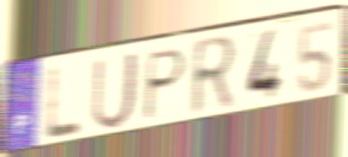4: (243, 25, 284, 105)
5: (296, 19, 334, 95)
L: (43, 64, 84, 143)
P: (140, 46, 189, 124)
R: (189, 32, 241, 121)
U: (90, 49, 141, 133)
